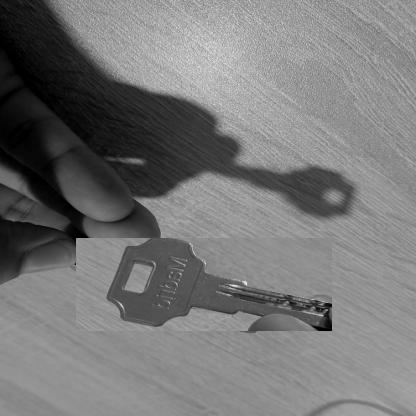key: (76, 238, 332, 331)
